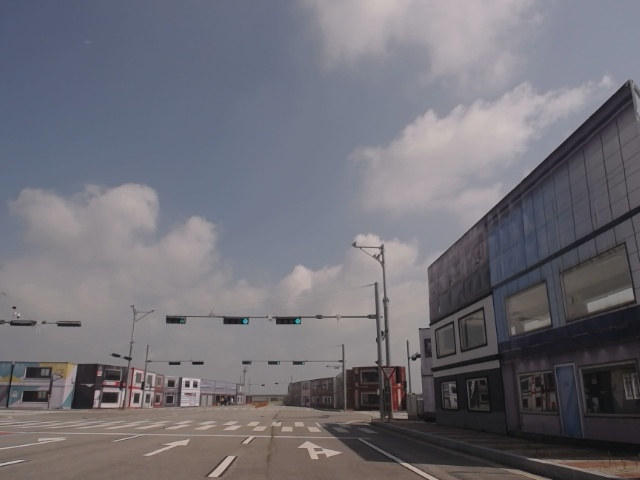straight_green_4: (222, 316, 251, 325), (275, 316, 302, 325)
